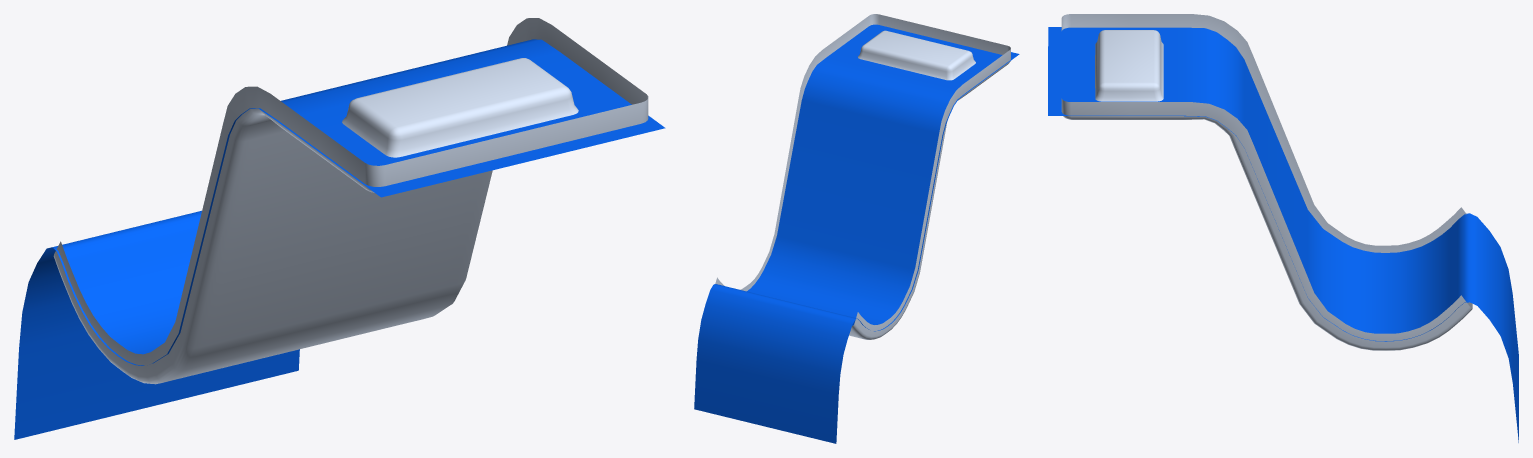
File: slider_jump.fbx
The picture shows the model from 3 angles, left to right: view 1: azimuth 30°, elevation 25°; view 2: azimuth 150°, elevation 25°; view 3: azimuth 270°, elevation 25°; orthographic projection. The views are drawn at different scales.
Parts seen in each view (by area): view 1: MDL_Jump_Slider, MDL_Jump_Slider_Water; view 2: MDL_Jump_Slider_Water, MDL_Jump_Slider; view 3: MDL_Jump_Slider_Water, MDL_Jump_Slider.
Boxes of the visible parts, x1,y1,x2,y2 form: MDL_Jump_Slider: (53, 18, 648, 384); MDL_Jump_Slider_Water: (14, 39, 665, 439); MDL_Jump_Slider_Water: (694, 24, 1019, 443); MDL_Jump_Slider: (715, 14, 1010, 339); MDL_Jump_Slider_Water: (1048, 27, 1518, 442); MDL_Jump_Slider: (1061, 14, 1472, 350).
Size of the model in its own units: 469 by 842 by 1047.
